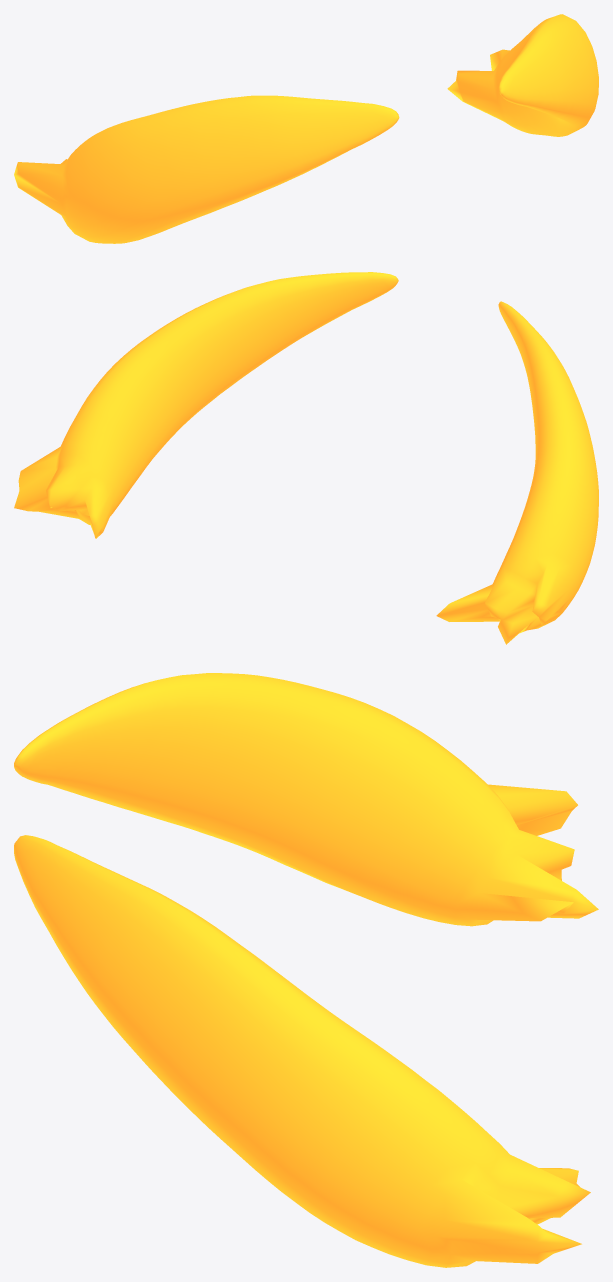
The model's file is b_arms.glb.
3 views of the same model, one above another, from view 1: azimuth 30°, elevation 25°; view 2: azimuth 150°, elevation 25°; view 3: azimuth 270°, elevation 25° (orthographic). The views are drawn at different scales.
Parts seen in each view (by area): view 1: Arms; view 2: Arms; view 3: Arms.
Boxes of the visible parts, box(x1,y1,x2,y2) form: Arms: box(14, 14, 598, 243); Arms: box(14, 272, 598, 644); Arms: box(14, 673, 598, 1267).
Bounding box in the file's own units: 1.19 × 0.4104 × 0.7057.
